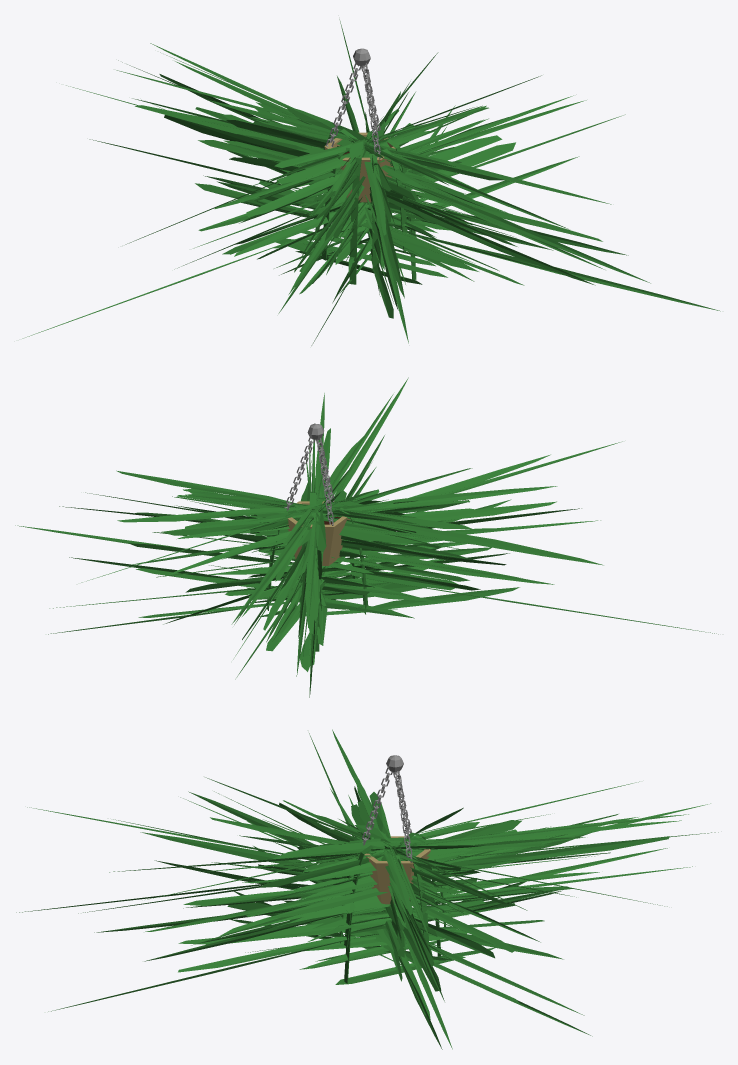
Rendered from pandemonium_hanging_plant.fbx.
The picture shows the model from 3 angles, top to bottom: view 1: azimuth 30°, elevation 25°; view 2: azimuth 150°, elevation 25°; view 3: azimuth 270°, elevation 25°; orthographic projection. The views are drawn at different scales.
Visible parts, largest first — view 1: Plane.053|Plane.052|Dupli|17, Plane.033|Plane.035|Dupli|9, Plane.033|Plane.035|Dupli|17, Plane.007|Plane.005|Dupli|23, Plane.061|Plane.060|Dupli|23, Plane.041|Plane.043|Dupli|18, Plane.053|Plane.052|Dupli|9, Plane.007|Plane.005|Dupli|16, Cylinder.016, Plane.053|Plane.052|Dupli|3, Plane.033|Plane.035|Dupli|5, Plane.021|Plane.023|Dupli|13 (+18 smaller); view 2: Plane.041|Plane.043|Dupli|23, Plane.037|Plane.036|Dupli|28, Cylinder.016, Plane.014|Plane.012|Dupli|23, Plane.014|Plane.012|Dupli|8, Plane.061|Plane.060|Dupli|28, Plane.014|Plane.012|Dupli|17, Plane.047|Plane.049|Dupli|17, Plane.037|Plane.036|Dupli|23, Plane.041|Plane.043|Dupli|13, Plane.041|Plane.043|Dupli|24, Plane.061|Plane.060|Dupli|14 (+13 smaller); view 3: Plane.021|Plane.023|Dupli|16, Plane.053|Plane.052|Dupli|26, Plane.053|Plane.052|Dupli|, Plane.033|Plane.035|Dupli|14, Plane.047|Plane.049|Dupli|20, Cylinder.016, Plane.021|Plane.023|Dupli|6, Plane.033|Plane.035|Dupli|21, Plane.053|Plane.052|Dupli|14, Plane.021|Plane.023|Dupli|28, Plane.033|Plane.035|Dupli|3, Plane.037|Plane.036|Dupli|12 (+20 smaller).
Part boxes in pixels (x1,y1,x2,y2): Plane.053|Plane.052|Dupli|17: (418, 187, 650, 283); Plane.033|Plane.035|Dupli|9: (135, 105, 421, 176); Plane.033|Plane.035|Dupli|17: (425, 238, 720, 311); Plane.007|Plane.005|Dupli|23: (366, 142, 611, 204); Plane.061|Plane.060|Dupli|23: (277, 130, 436, 184); Plane.041|Plane.043|Dupli|18: (246, 174, 340, 216); Plane.053|Plane.052|Dupli|9: (363, 220, 478, 271); Plane.007|Plane.005|Dupli|16: (164, 115, 304, 156); Cylinder.016: (324, 132, 395, 202); Plane.053|Plane.052|Dupli|3: (404, 209, 595, 285); Plane.033|Plane.035|Dupli|5: (412, 190, 602, 241); Plane.021|Plane.023|Dupli|13: (386, 194, 512, 252); Plane.041|Plane.043|Dupli|23: (341, 516, 603, 565); Plane.037|Plane.036|Dupli|28: (117, 508, 306, 522); Cylinder.016: (287, 501, 350, 565); Plane.014|Plane.012|Dupli|23: (364, 486, 557, 505); Plane.014|Plane.012|Dupli|8: (373, 587, 519, 609); Plane.061|Plane.060|Dupli|28: (116, 470, 305, 505); Plane.014|Plane.012|Dupli|17: (412, 501, 556, 521); Plane.047|Plane.049|Dupli|17: (371, 454, 550, 511); Plane.037|Plane.036|Dupli|23: (161, 516, 336, 535); Plane.041|Plane.043|Dupli|13: (363, 555, 554, 584); Plane.041|Plane.043|Dupli|24: (339, 526, 426, 543); Plane.061|Plane.060|Dupli|14: (340, 548, 520, 577); Plane.021|Plane.023|Dupli|16: (432, 836, 669, 870); Plane.053|Plane.052|Dupli|26: (366, 820, 681, 853); Plane.053|Plane.052|Dupli|: (272, 839, 442, 859); Plane.033|Plane.035|Dupli|14: (178, 936, 361, 972); Plane.047|Plane.049|Dupli|20: (140, 832, 316, 867); Cylinder.016: (364, 836, 430, 904); Plane.021|Plane.023|Dupli|6: (229, 911, 459, 943); Plane.033|Plane.035|Dupli|21: (260, 878, 429, 920); Plane.053|Plane.052|Dupli|14: (183, 888, 330, 905); Plane.021|Plane.023|Dupli|28: (411, 814, 688, 845); Plane.033|Plane.035|Dupli|3: (144, 913, 343, 961); Plane.037|Plane.036|Dupli|12: (410, 901, 515, 952).
Size of the model in its own units: 970 by 301 by 890.
